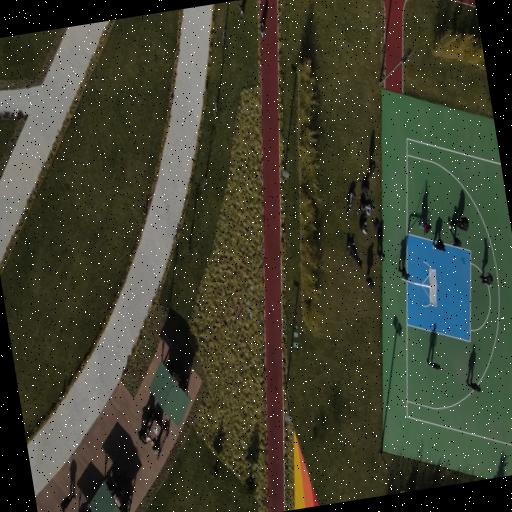person: (347, 237, 362, 266), (449, 225, 461, 247), (346, 189, 355, 216), (359, 200, 375, 215), (138, 425, 150, 444), (61, 494, 74, 511), (480, 272, 493, 286), (433, 238, 446, 251), (456, 216, 468, 230), (419, 219, 431, 233), (466, 379, 480, 391), (376, 244, 385, 261), (359, 217, 368, 233), (399, 266, 410, 279), (366, 272, 374, 289), (427, 359, 440, 369), (361, 179, 369, 194), (369, 160, 376, 177), (238, 3, 244, 20), (374, 217, 380, 232), (260, 20, 265, 36)
